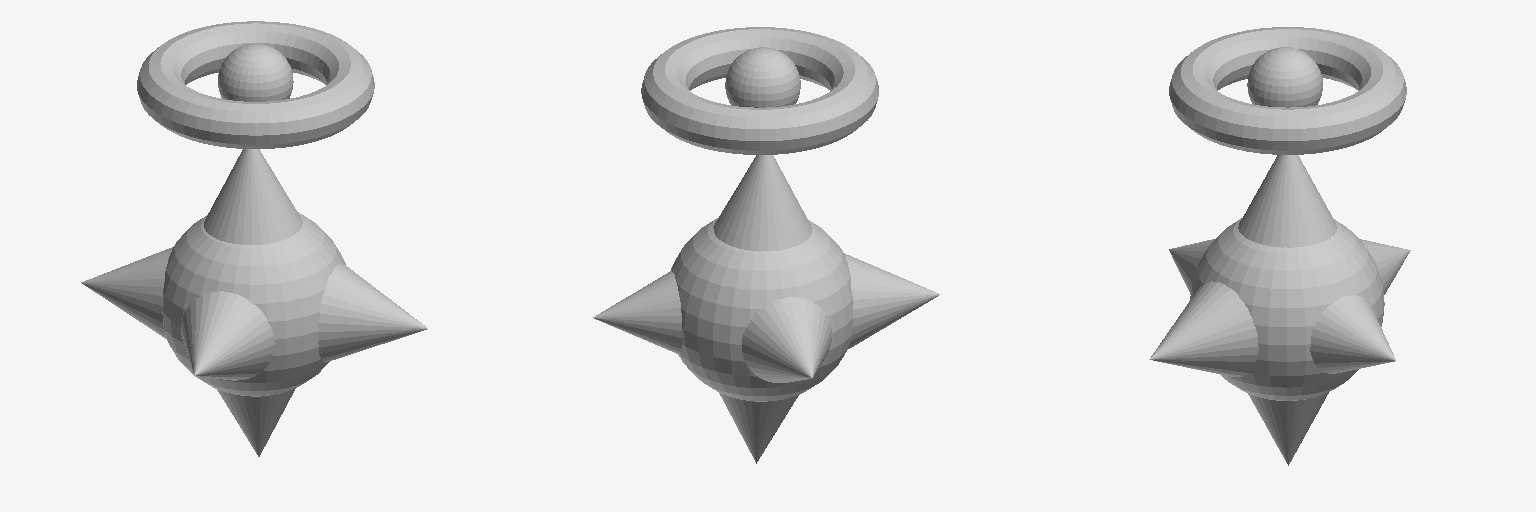
The model's file is crown1.obj.
3 views of the same model, side by side, from view 1: azimuth 30°, elevation 25°; view 2: azimuth 150°, elevation 25°; view 3: azimuth 270°, elevation 25° (orthographic).
Parts seen in each view (by area): view 1: Cone, Sphere; view 2: Cone, Sphere; view 3: Cone, Sphere.
Boxes of the visible parts, x1,y1,x2,y2 form: Cone: [81, 21, 427, 456]; Sphere: [162, 212, 345, 396]; Cone: [593, 27, 940, 463]; Sphere: [671, 218, 852, 401]; Cone: [1149, 27, 1410, 465]; Sphere: [1190, 218, 1384, 400].
Bounding box in the file's own units: 82.68 × 139 × 79.87.